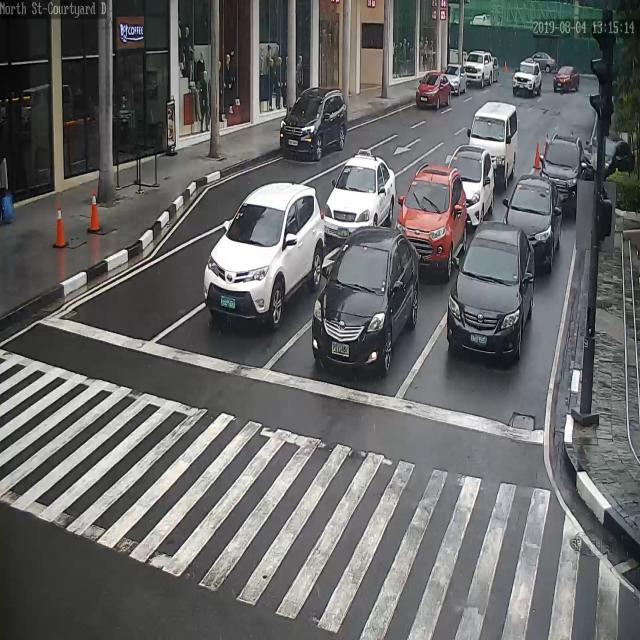car: (207, 181, 325, 328), (315, 227, 418, 377), (448, 223, 533, 362), (393, 163, 470, 283), (324, 154, 398, 243), (279, 87, 351, 163), (503, 176, 560, 272), (442, 144, 497, 223), (536, 131, 585, 207), (581, 134, 635, 181), (415, 70, 452, 111), (464, 50, 499, 87), (513, 63, 544, 97), (553, 65, 581, 95), (443, 63, 471, 93), (526, 50, 556, 71)
van: (465, 104, 520, 181)
